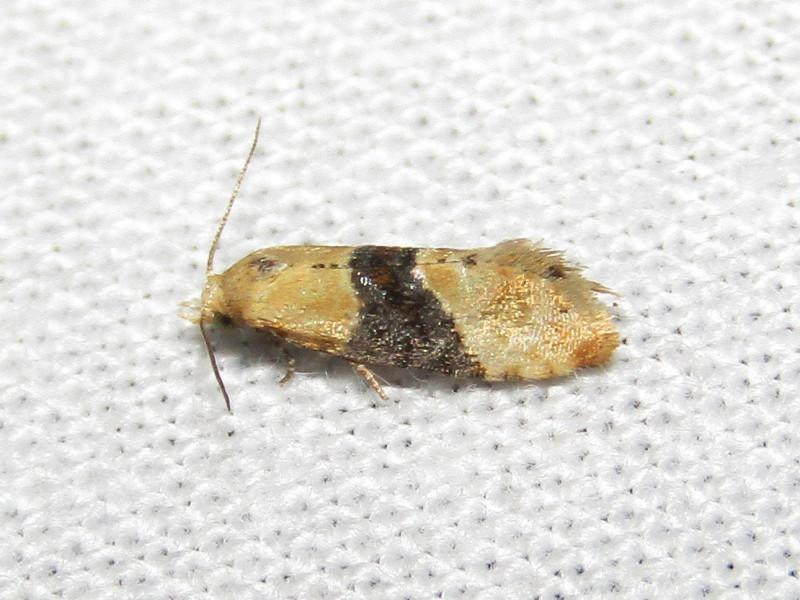Eupoecilia Ambiguella: (178, 115, 625, 415)
